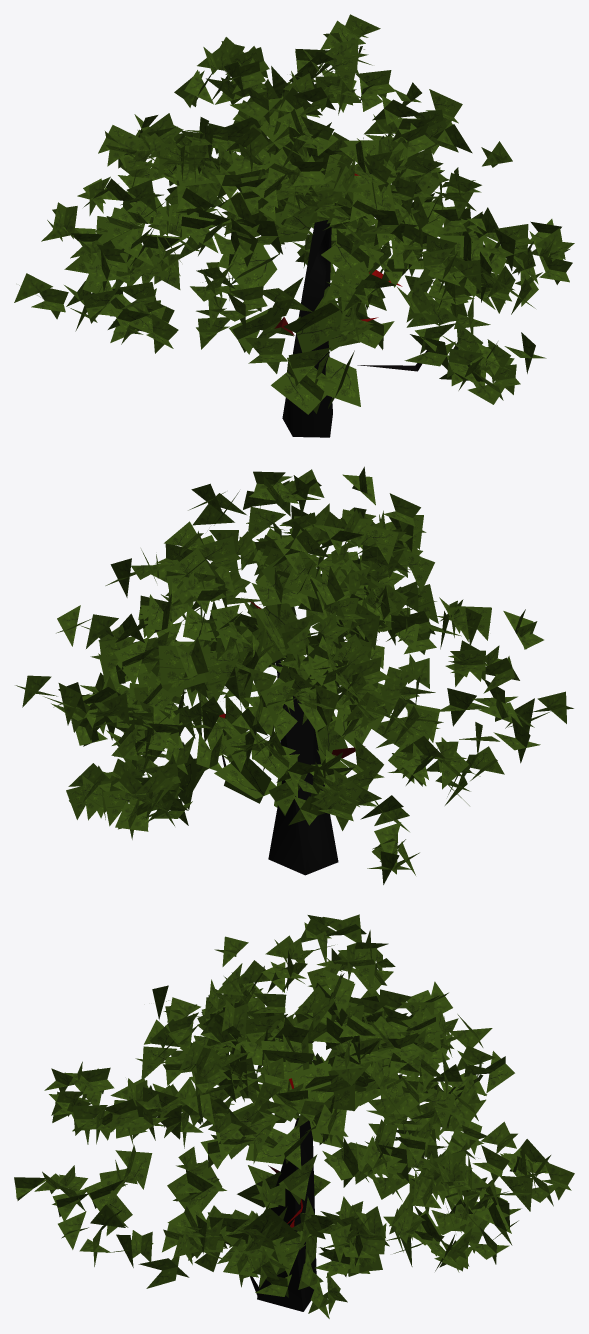
The model's file is oak6 lod4.FBX.
3 views of the same model, one above another, from view 1: azimuth 30°, elevation 25°; view 2: azimuth 150°, elevation 25°; view 3: azimuth 270°, elevation 25° (orthographic). The views are drawn at different scales.
Parts seen in each view (by area): view 1: oak6_LOD4; view 2: oak6_LOD4; view 3: oak6_LOD4.
Part boxes in pixels (x1,y1,x2,y2): oak6_LOD4: (14, 14, 574, 437); oak6_LOD4: (15, 466, 573, 884); oak6_LOD4: (14, 914, 574, 1318).
Bounding box in the file's own units: 198707 × 145645 × 205477.
